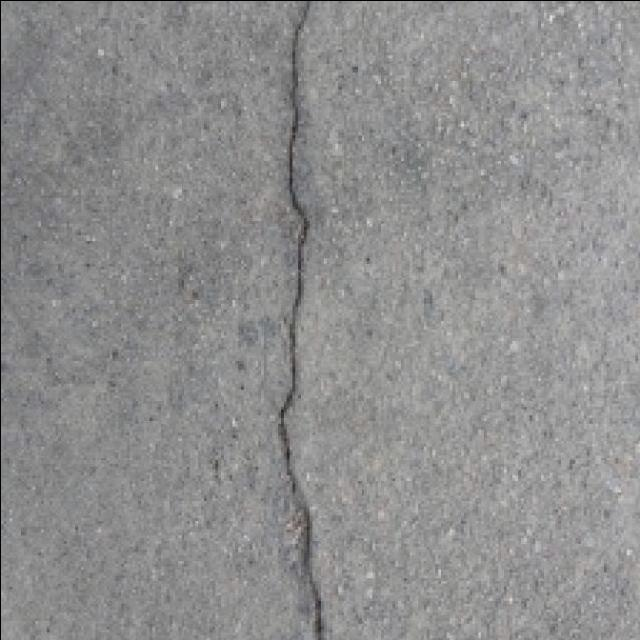SurfaceCrack: (238, 0, 378, 640)
